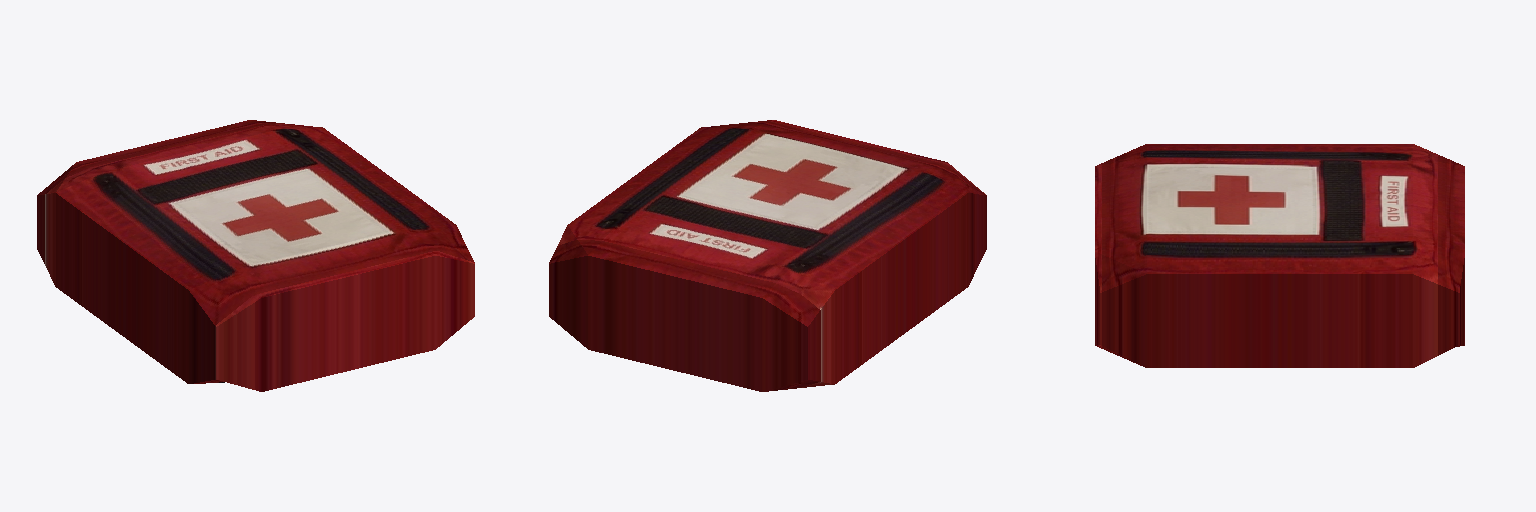
3 renders of one model, left to right at view 1: azimuth 30°, elevation 25°; view 2: azimuth 150°, elevation 25°; view 3: azimuth 270°, elevation 25°, orthographic.
Visible parts, largest first — view 1: Box01; view 2: Box01; view 3: Box01.
Part boxes in pixels (x1,y1,x2,y2): Box01: (37, 120, 474, 391); Box01: (549, 120, 986, 391); Box01: (1095, 144, 1464, 367).
Bounding box in the file's own units: 10 × 4 × 12.
1 materials, 1 textured.